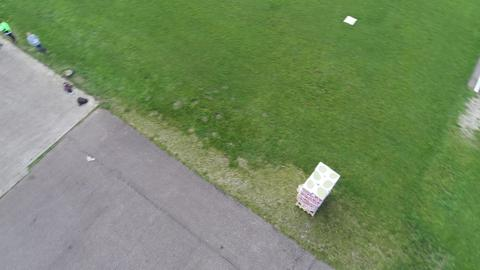RockwoolPallet: (297, 162, 341, 215)
